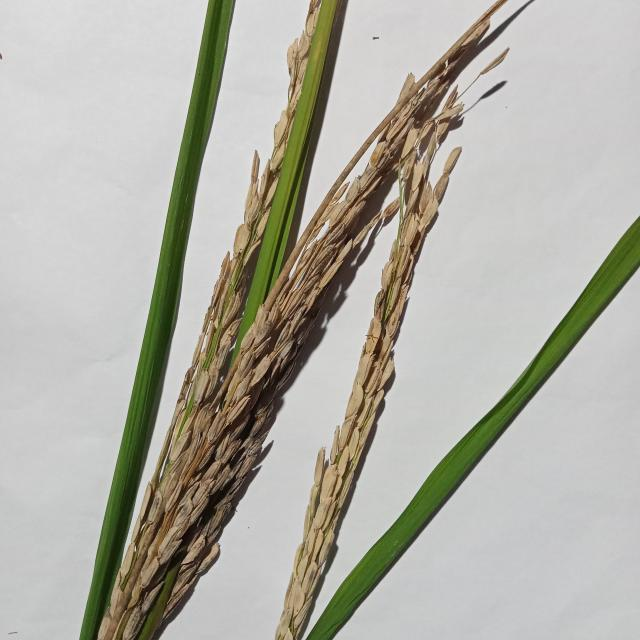Neck_Blast: (85, 21, 467, 640), (277, 134, 452, 640)
